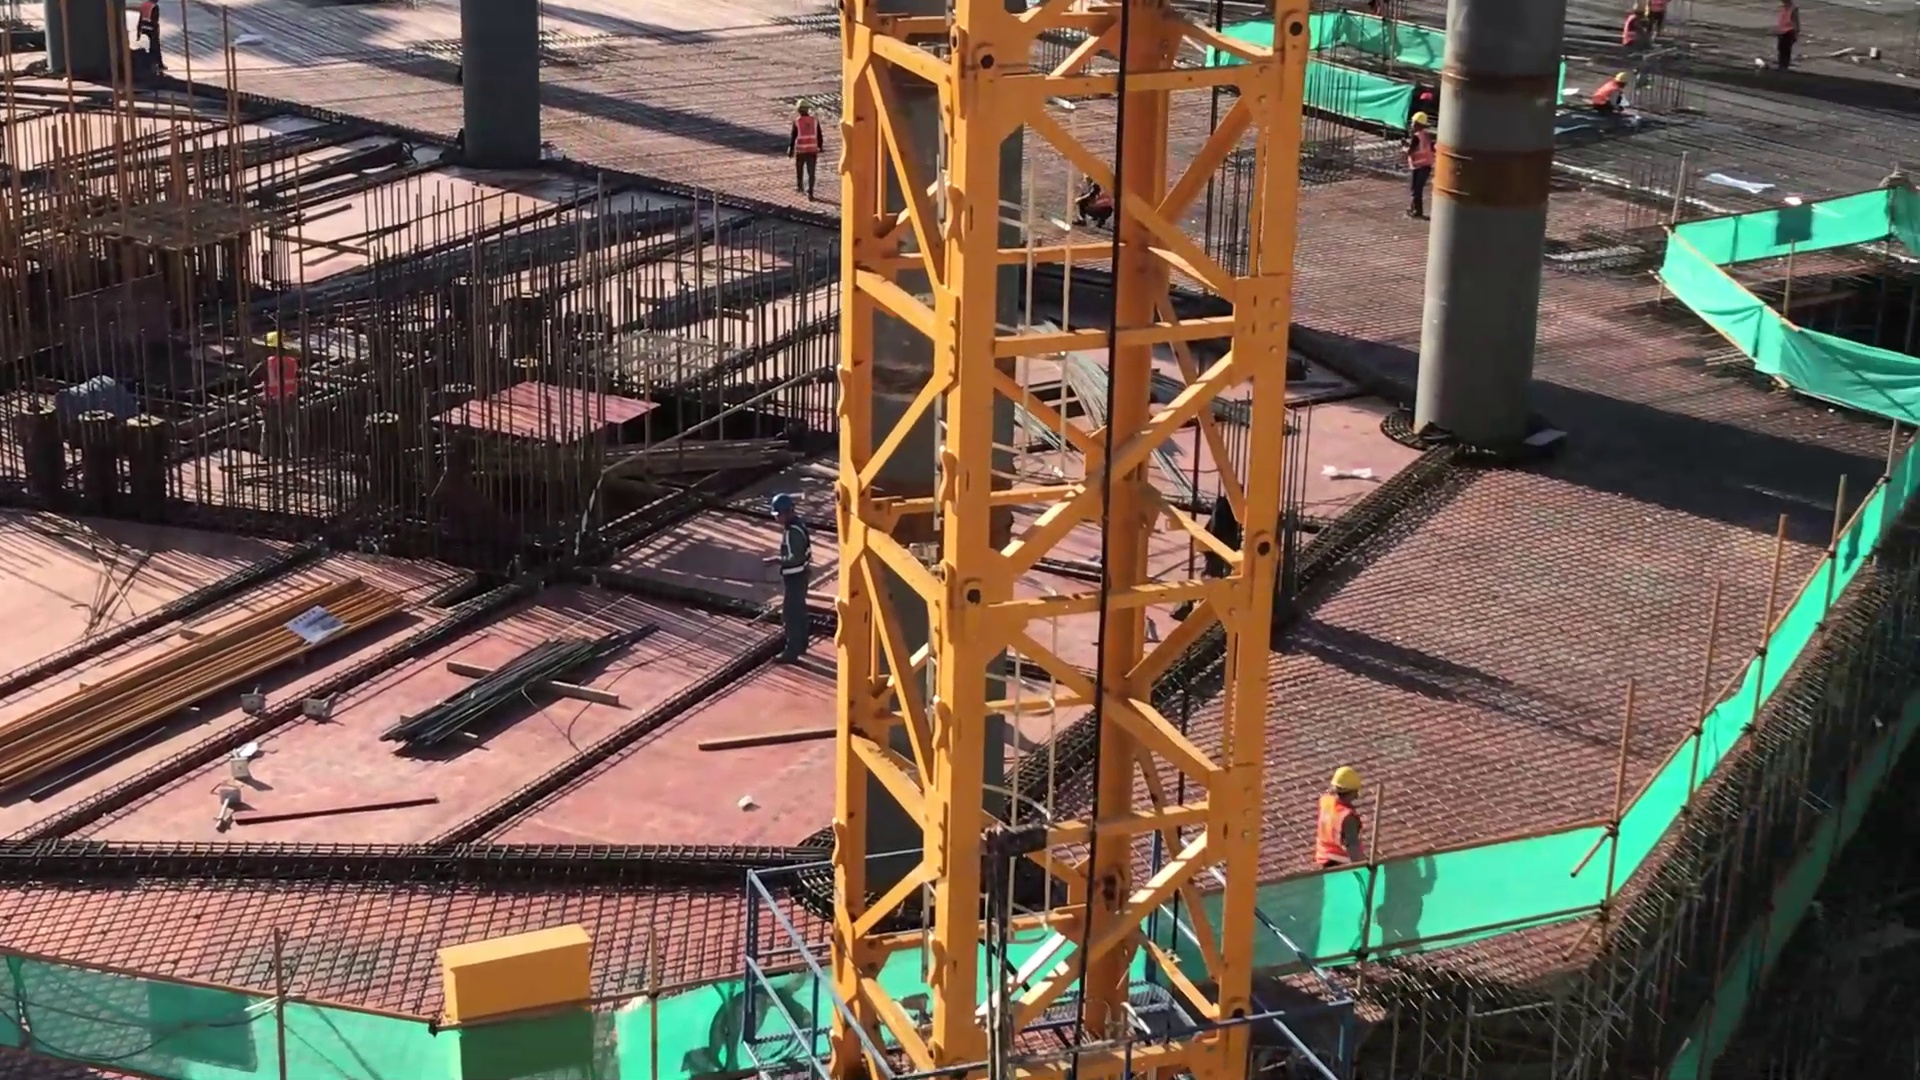helmet: (759, 473, 816, 520), (1332, 747, 1390, 785)
person: (762, 496, 827, 657), (1309, 758, 1373, 883), (246, 326, 306, 447), (779, 95, 835, 195), (1575, 69, 1640, 116), (1406, 108, 1428, 203)
vest: (1313, 789, 1351, 864), (251, 347, 296, 403), (775, 520, 812, 581), (790, 104, 828, 154), (1581, 64, 1621, 111), (1404, 115, 1438, 162)
